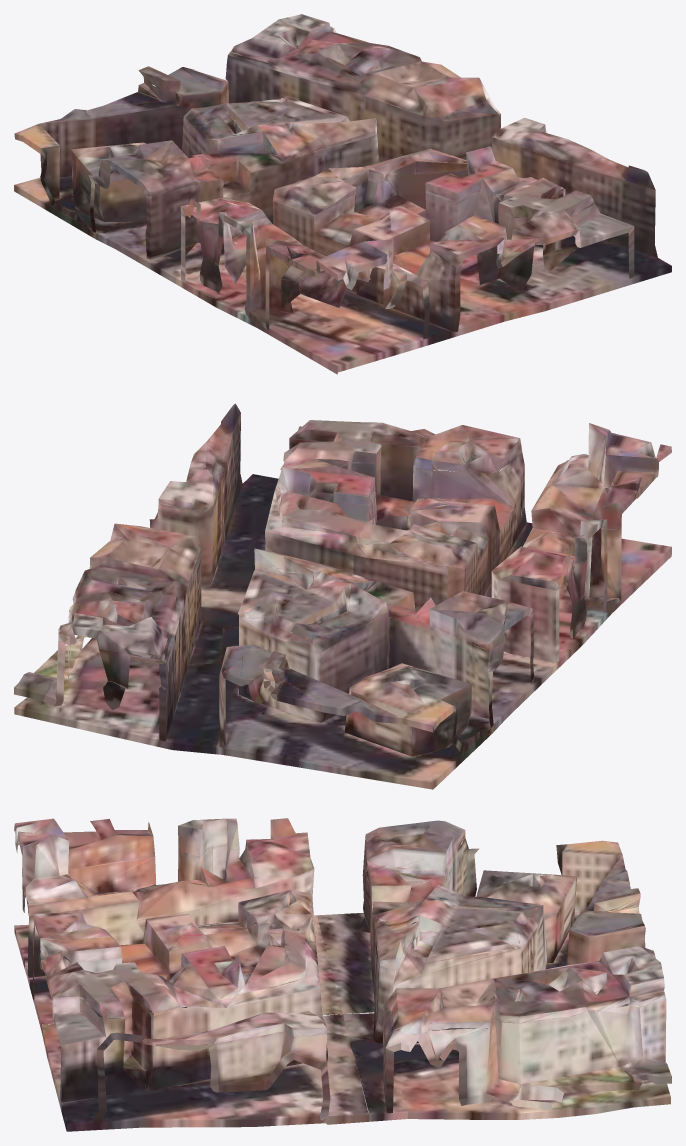
The picture shows the model from 3 angles, top to bottom: view 1: azimuth 30°, elevation 25°; view 2: azimuth 150°, elevation 25°; view 3: azimuth 270°, elevation 25°; orthographic projection. The views are drawn at different scales.
Parts seen in each view (by area): view 1: Mesh_0; view 2: Mesh_0; view 3: Mesh_0.
Part boxes in pixels (bbox=[...]): Mesh_0: bbox=[14, 14, 671, 374]; Mesh_0: bbox=[14, 403, 671, 789]; Mesh_0: bbox=[14, 818, 671, 1131].
Bounding box in the file's own units: 133 × 38.13 × 165.
1 material, 1 textured.
